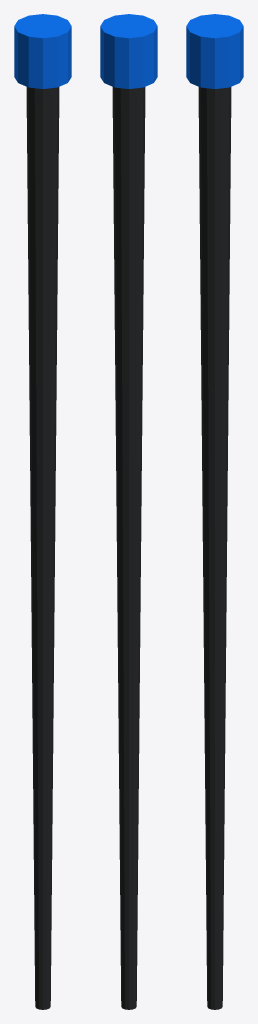
Rendered from SG_Baston.fbx.
The picture shows the model from 3 angles, left to right: view 1: azimuth 30°, elevation 25°; view 2: azimuth 150°, elevation 25°; view 3: azimuth 330°, elevation 25°; orthographic projection.
Visible parts, largest first — view 1: baston; view 2: baston; view 3: baston.
Part boxes in pixels (bbox=[...]): baston: bbox=[14, 14, 71, 1009]; baston: bbox=[100, 14, 157, 1009]; baston: bbox=[186, 14, 243, 1009].
Bounding box in the file's own units: 7.14 × 134 × 7.14.
